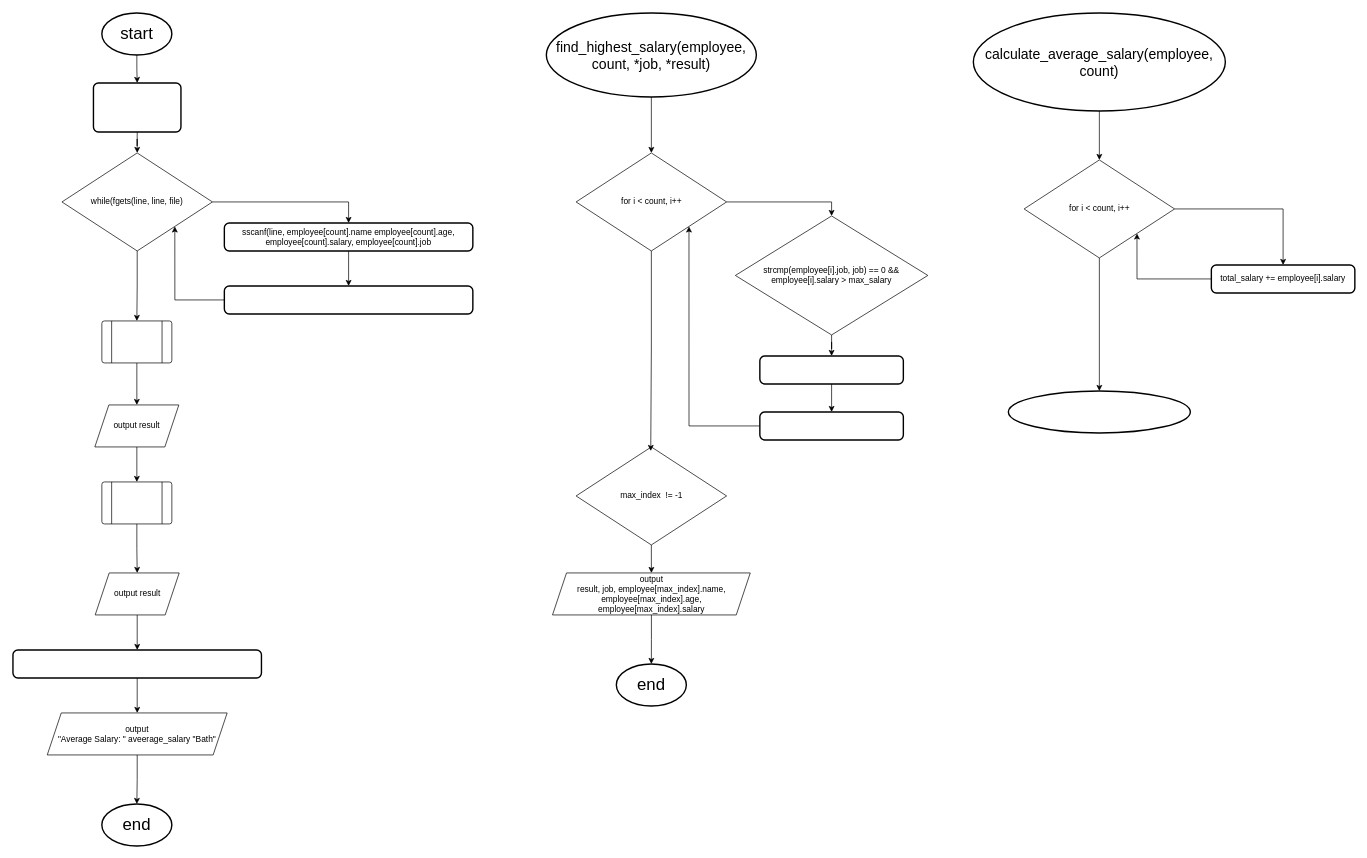
The diagram is 1367 pixels wide and 858 high, and some of its shapes have lost their labels. Each missing label, with the centre of its shape:
average_salary = calculate_average_salary(employee, count): point (137, 663)
count++: point (348, 299)
file = fgets("a15-6.txt): point (136, 107)
find_highest_salary(employee, count, "Programmer", result): point (136, 341)
find_highest_salary(employee, count, "Support", result): point (136, 502)
max_index = i: point (831, 425)
max_salary = employee[i].salary: point (831, 369)
return total_salary / count: point (1099, 411)
